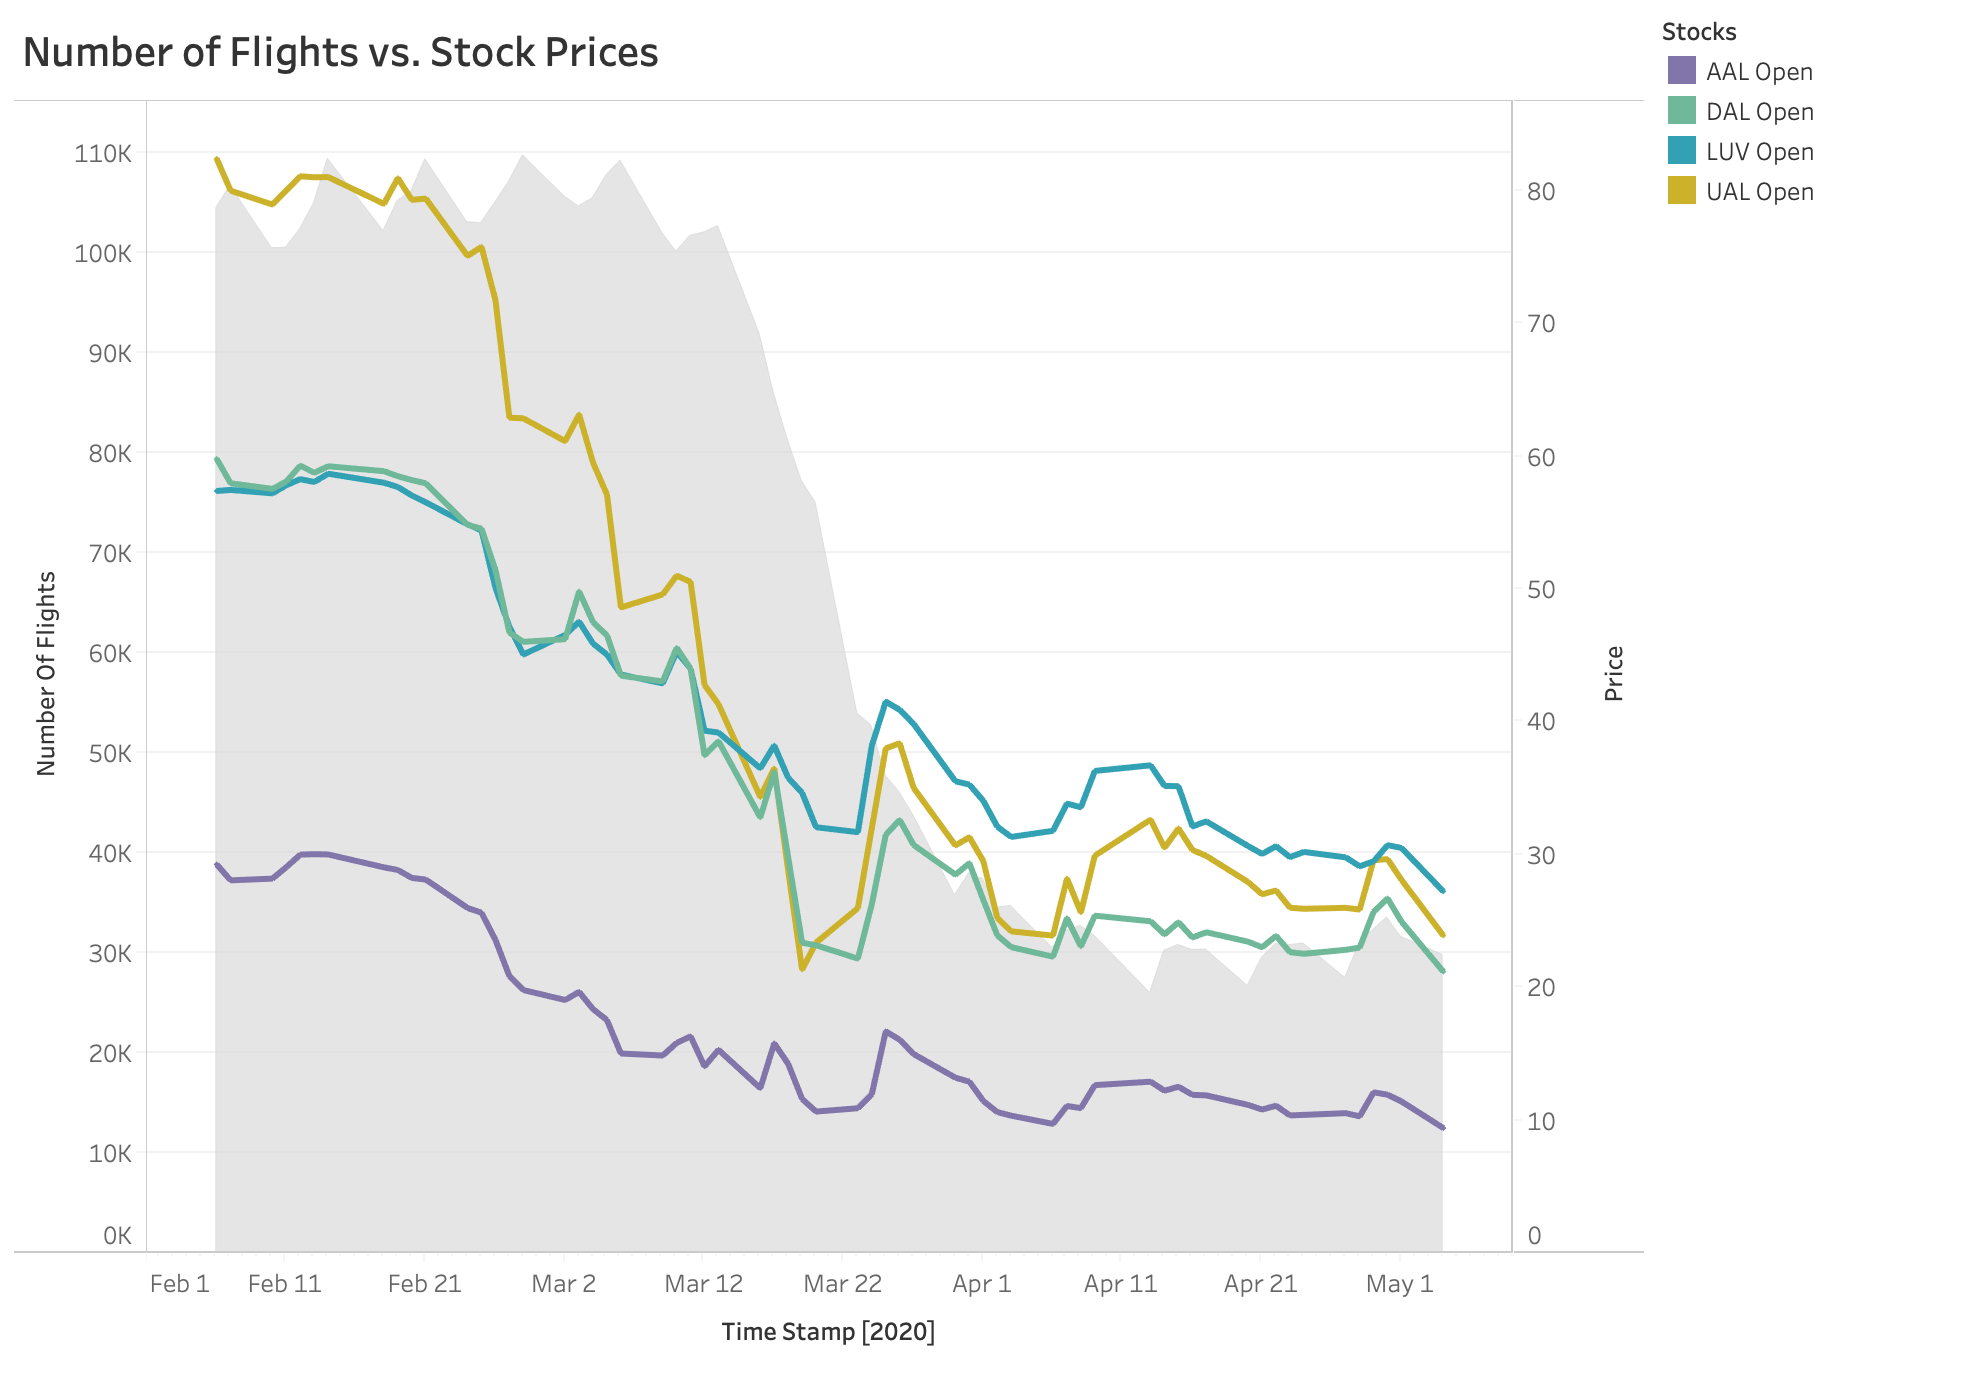

What the dashboard file says about the page in this screenshot:
{"tool":"tableau","page":{"name":"Dashboard 1","canvas":[1000,1000],"units":"permille","ordinal":0},"visuals":[{"type":"worksheet","title":"Fig 1","mark":"Automatic","rows":["NumberOfFlights"],"cols":["TimeStamp"],"box":[7.8,12.4,828.1,975.2]},{"type":"legend","title":"Fig 1","param":"[federated.0j0h2uk1pa196e18oghfv0ouhi4r].[:Measure Names]","box":[835.9,12.4,156.2,164.6]}]}

Visuals, with their boxes on the dashboard's canvas, which has no fixed pixel size, in thousandths of its width and height (x1, y1, x2, y2). These are canvas units, not pixel positions in the 1962x1378 screenshot, which may show the page scaled, cropped or inside an application window:
"Fig 1" worksheet: box=[8, 12, 836, 988]
"Fig 1" legend: box=[836, 12, 992, 177]
